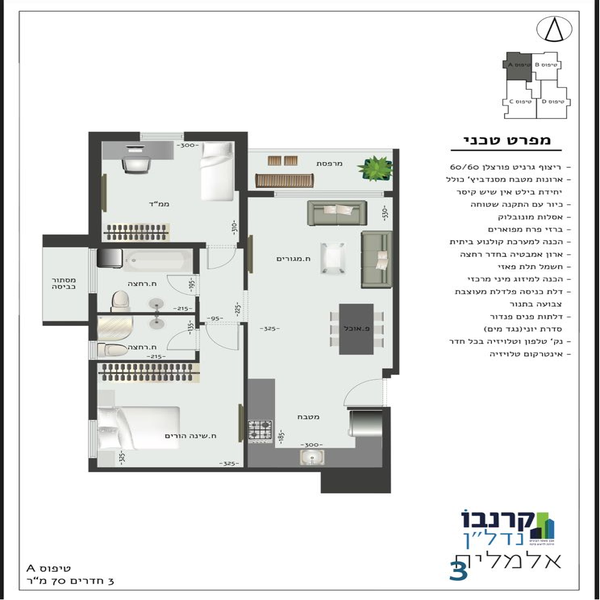door: (338, 378, 395, 409), (204, 240, 242, 273), (161, 327, 202, 354), (160, 272, 202, 297), (207, 321, 240, 352)
room: (236, 190, 404, 477), (80, 125, 250, 244), (80, 360, 252, 471), (97, 238, 206, 365)
wall: (83, 465, 397, 475), (392, 148, 401, 378), (88, 130, 104, 249), (239, 200, 254, 286), (100, 242, 207, 253), (96, 354, 198, 365), (243, 323, 250, 469), (234, 139, 251, 194), (380, 407, 394, 467), (94, 311, 200, 318), (39, 316, 89, 330), (187, 129, 247, 140), (40, 234, 89, 247), (97, 131, 142, 145), (88, 290, 99, 343), (87, 362, 97, 419), (195, 299, 199, 327)
window: (83, 253, 102, 293), (279, 191, 386, 198), (138, 129, 186, 144), (85, 423, 97, 461)
